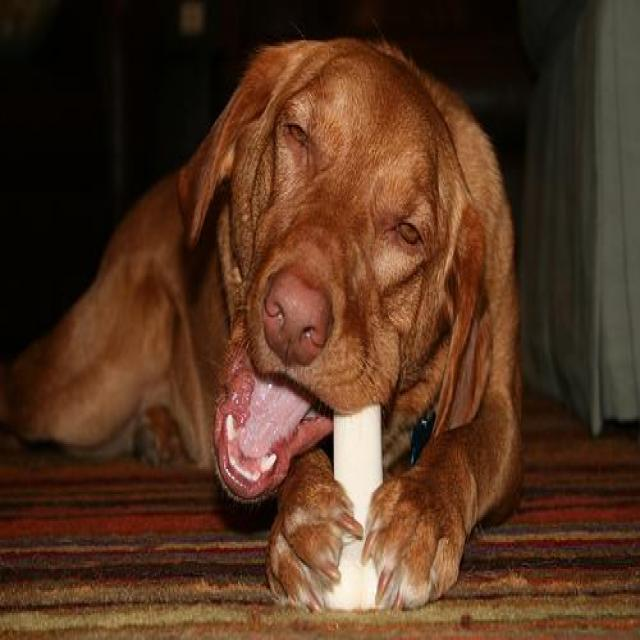vizsla: (3, 37, 522, 608)
